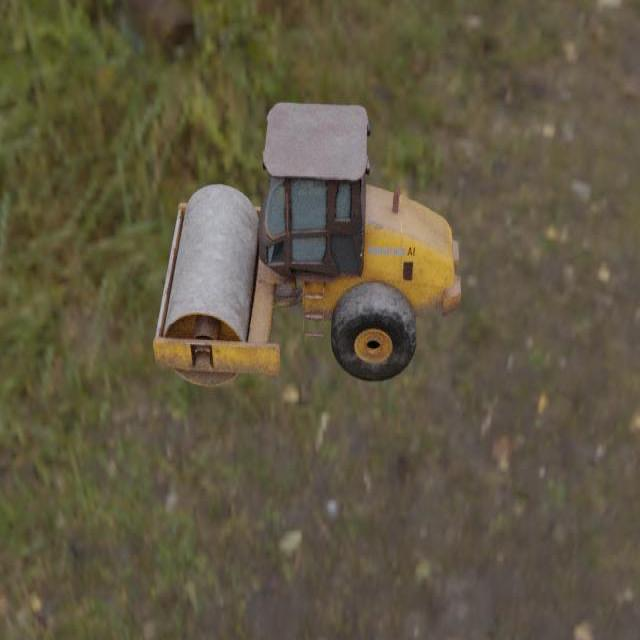Roller: (152, 101, 460, 387)
